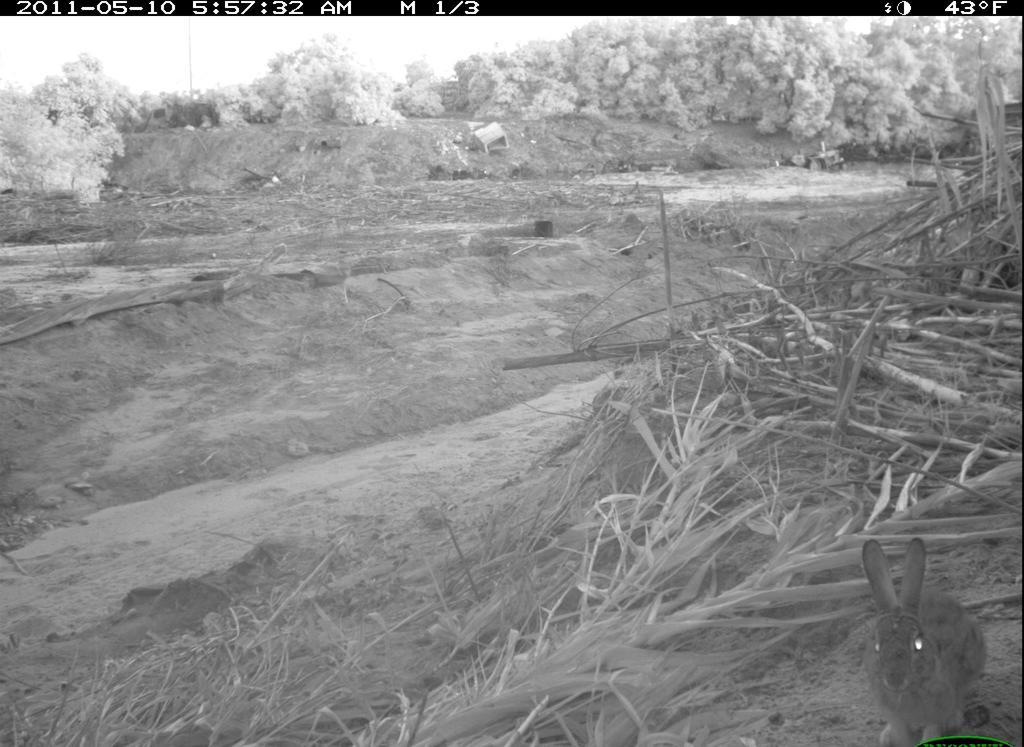rabbit: (844, 528, 998, 747)
